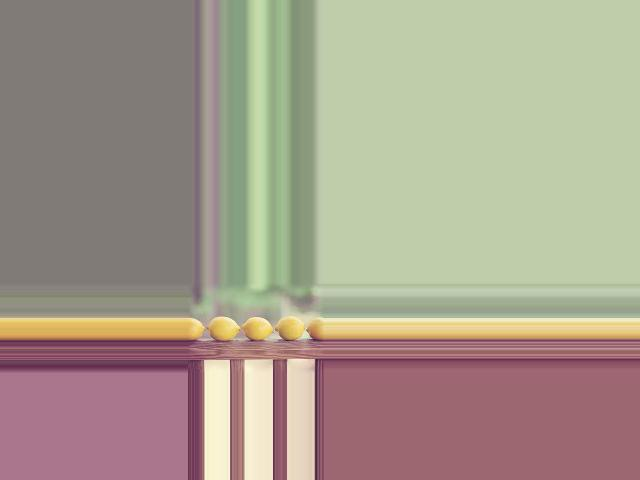lemon: (188, 317, 204, 339)
